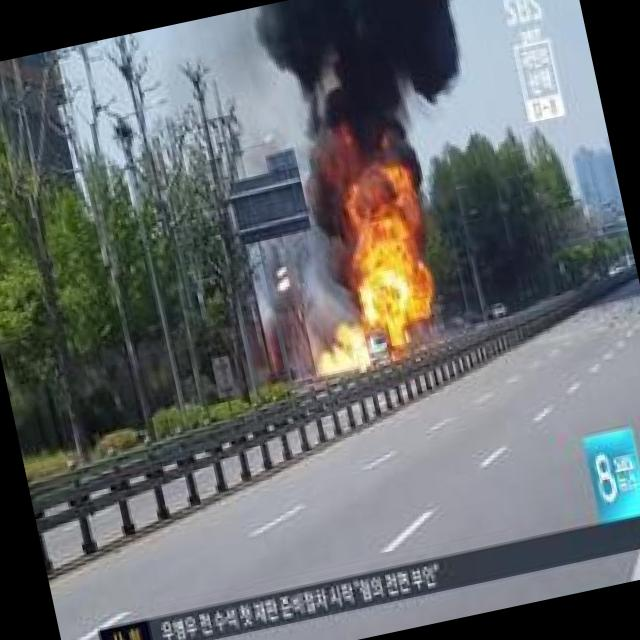Fire: (302, 114, 443, 362), (316, 330, 374, 381)
Smoke: (247, 0, 480, 141)
